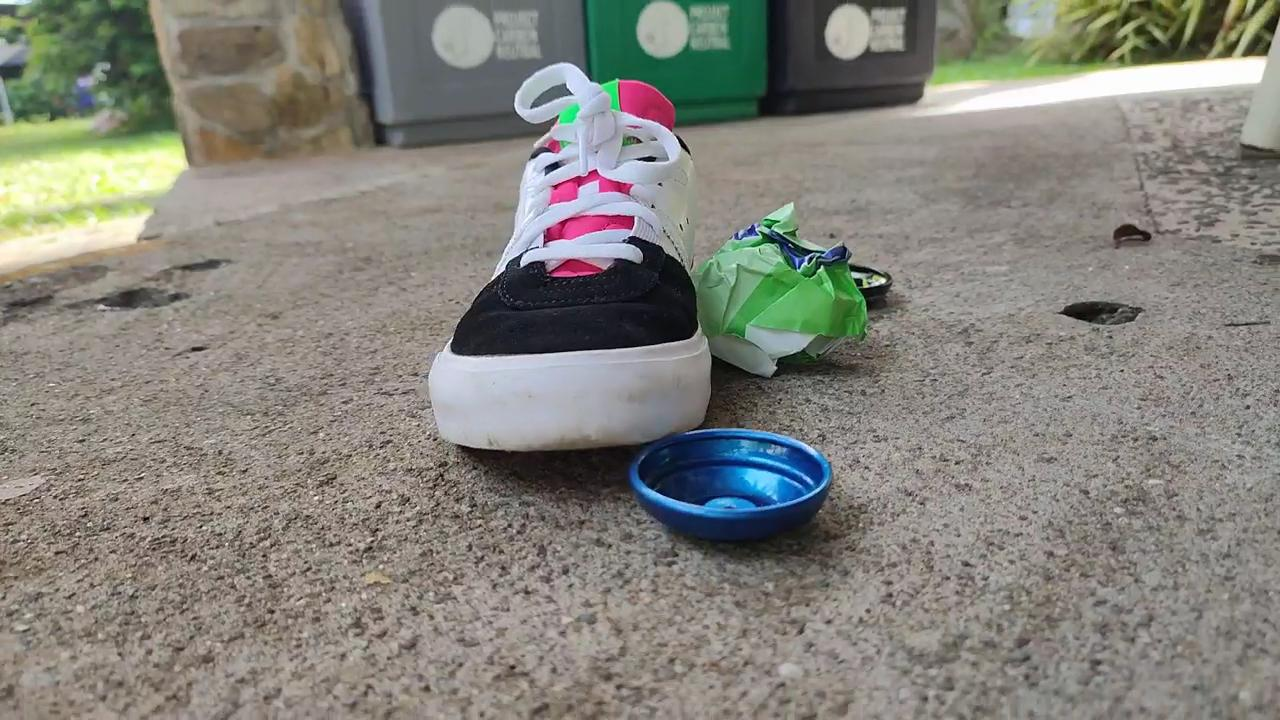Paper: (683, 187, 879, 385)
